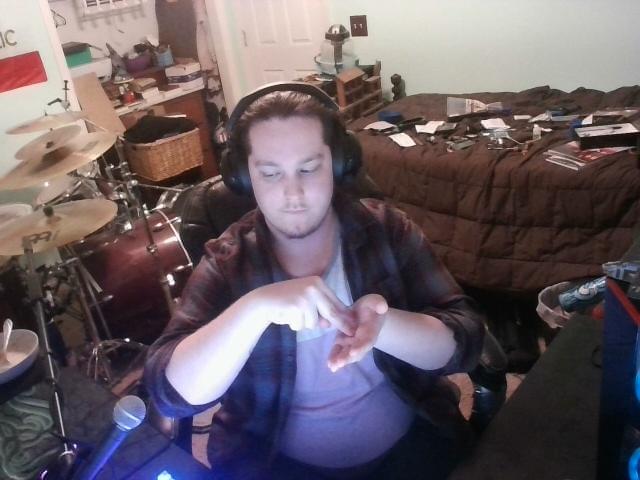fork: (256, 270, 403, 385)
